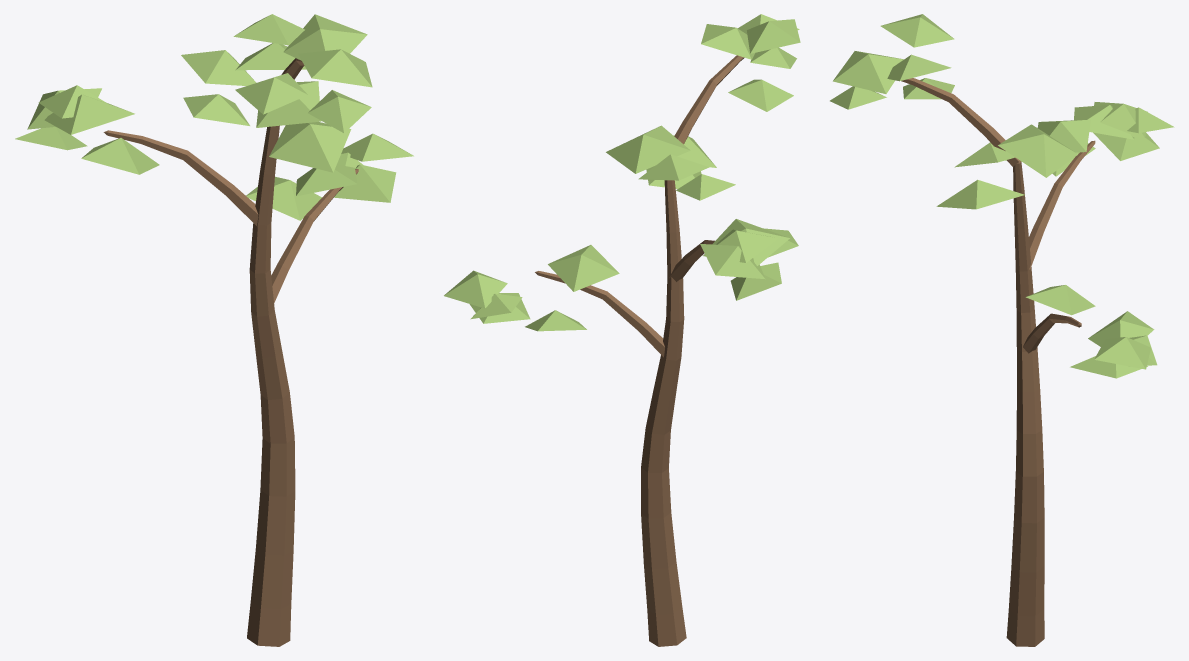
Rendered from Yggdrasil_Sapling.fbx.
The picture shows the model from 3 angles, left to right: view 1: azimuth 30°, elevation 25°; view 2: azimuth 150°, elevation 25°; view 3: azimuth 270°, elevation 25°; orthographic projection. The views are drawn at different scales.
Visible parts, largest first — view 1: Yggdrasil_Sapling; view 2: Yggdrasil_Sapling; view 3: Yggdrasil_Sapling.
Boxes of the visible parts, x1,y1,x2,y2 form: Yggdrasil_Sapling: (15, 14, 413, 646); Yggdrasil_Sapling: (444, 14, 800, 646); Yggdrasil_Sapling: (830, 14, 1174, 646).
Bounding box in the file's own units: 0.9154 × 1.56 × 0.8181.
